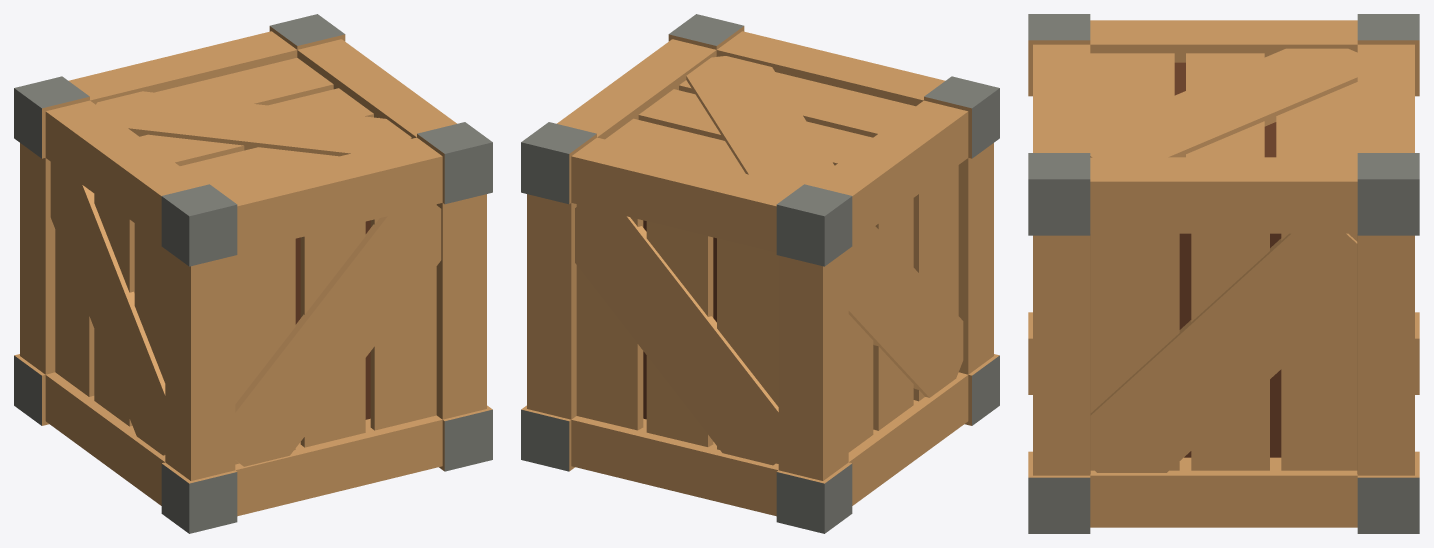
File: Caja.fbx
3 renders of one model, left to right at view 1: azimuth 30°, elevation 25°; view 2: azimuth 150°, elevation 25°; view 3: azimuth 270°, elevation 25°, orthographic. The views are drawn at different scales.
Visible parts, largest first — view 1: Cubo; view 2: Cubo; view 3: Cubo.
Boxes of the visible parts, x1,y1,x2,y2 form: Cubo: (14,14,492,533); Cubo: (521,14,999,533); Cubo: (1028,14,1419,533).
Size of the model in its own units: 0.6 by 0.6 by 0.6.
